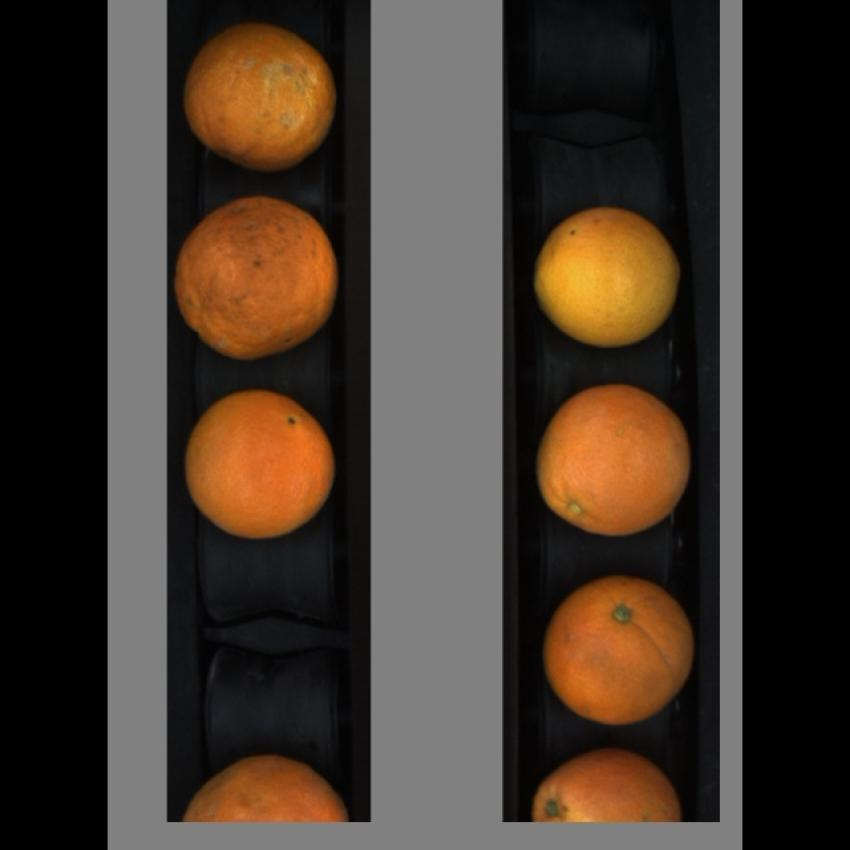Buen estado: (183, 391, 343, 545), (531, 204, 692, 350)
Mal estado: (532, 372, 698, 542), (172, 196, 342, 361), (536, 568, 699, 728), (180, 23, 339, 168), (177, 748, 355, 822), (528, 746, 688, 824)
